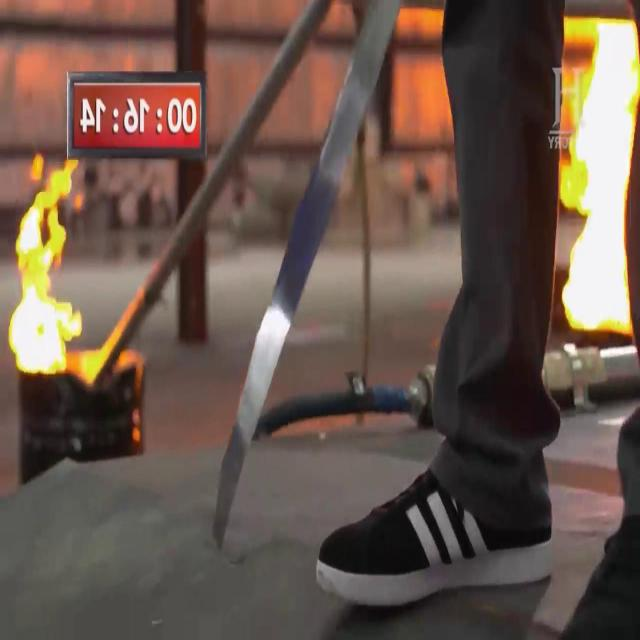Fire: (557, 18, 637, 340), (8, 160, 82, 381)
